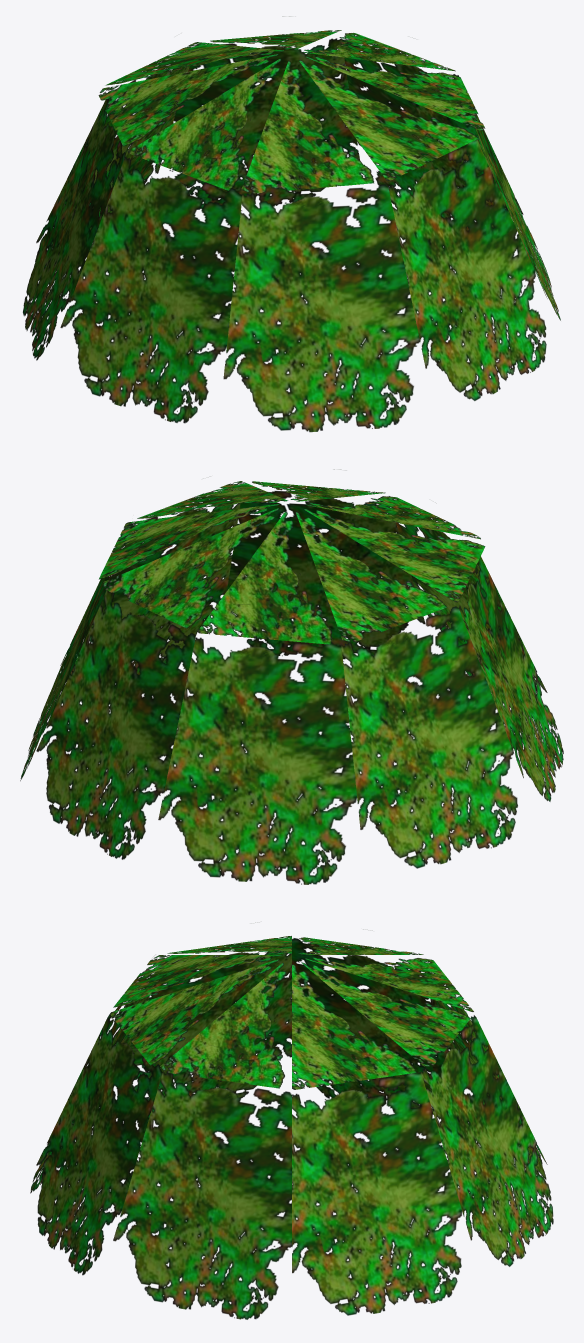
The model's file is bush1.glb.
3 views of the same model, one above another, from view 1: azimuth 30°, elevation 25°; view 2: azimuth 150°, elevation 25°; view 3: azimuth 270°, elevation 25° (orthographic). The views are drawn at different scales.
Parts seen in each view (by area): view 1: tree2; view 2: tree2; view 3: tree2.
Part boxes in pixels (x1,y1,x2,y2): tree2: (23, 30, 560, 432); tree2: (20, 469, 563, 884); tree2: (30, 936, 553, 1319).
Size of the model in its own units: 1.1 by 0.5592 by 1.1.
Materials: 1 (1 with a texture image).
